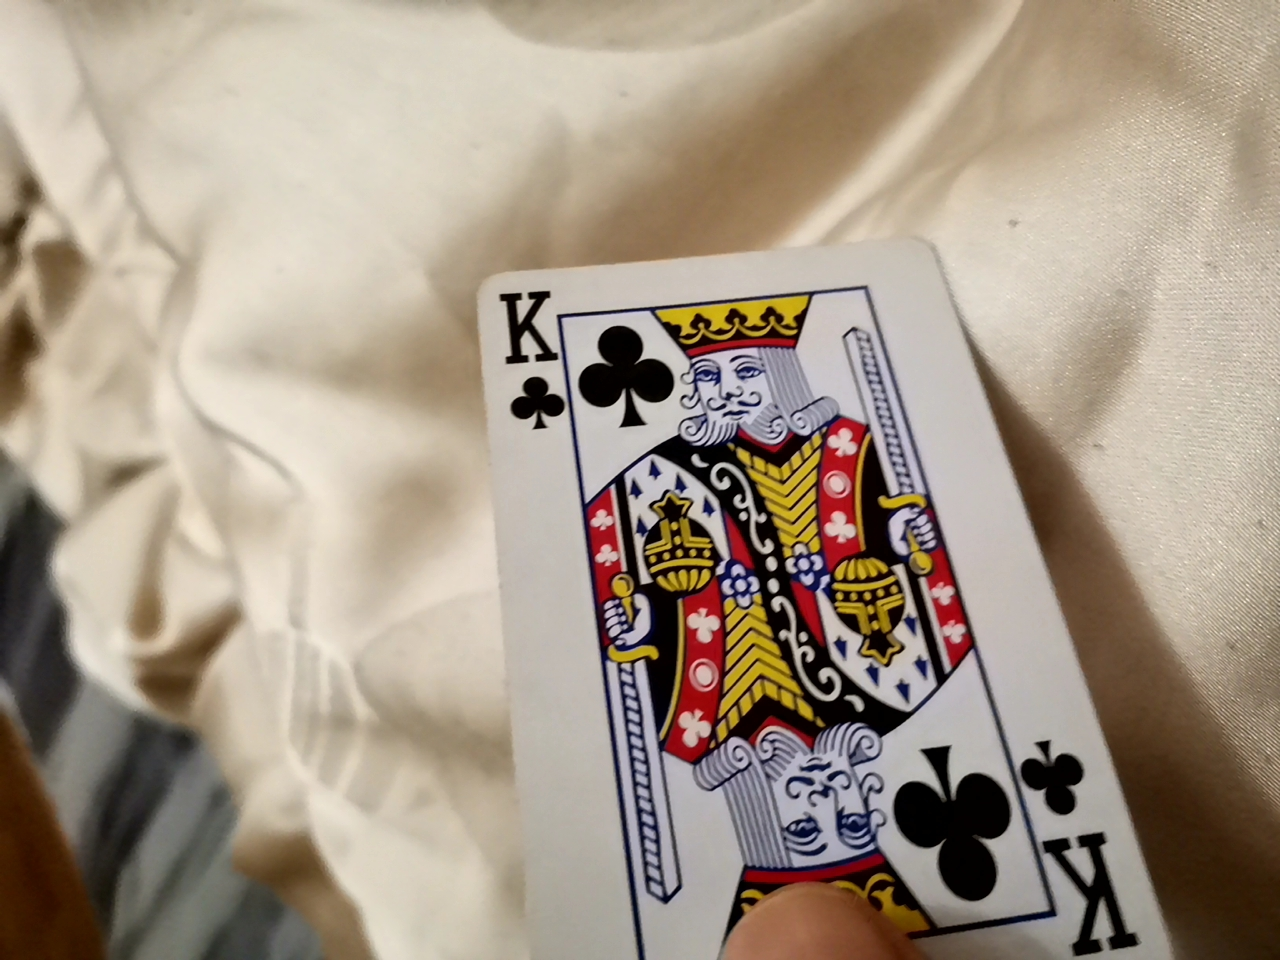mh k: (437, 222, 1126, 939)
